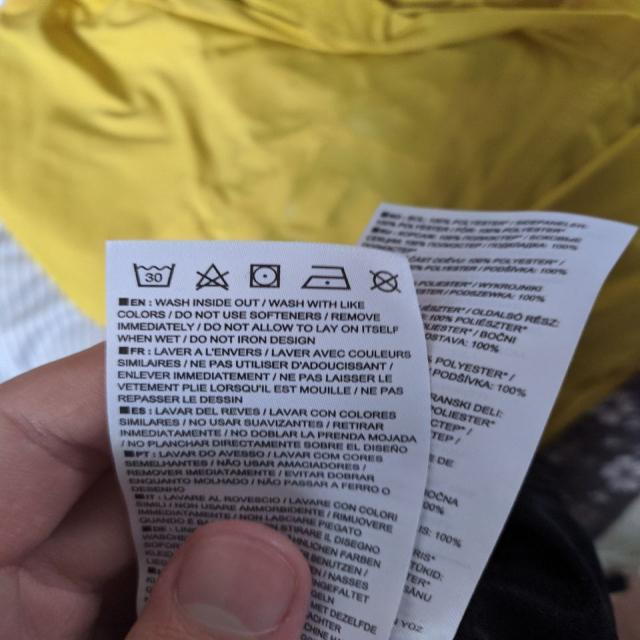30C: (131, 258, 181, 289)
DN_bleach: (194, 261, 236, 291)
DN_dry_clean: (368, 268, 402, 292)
iron_low: (300, 261, 354, 293)
tumble_dry_low: (248, 260, 288, 292)
